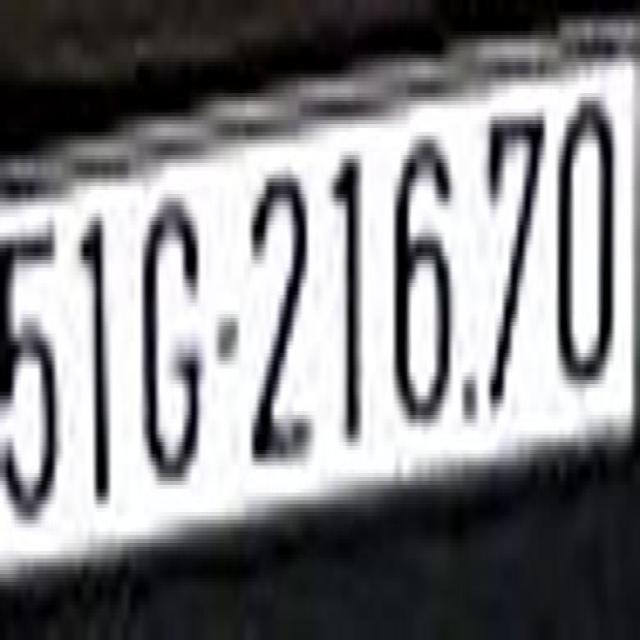0: (554, 89, 614, 392)
1: (330, 152, 368, 434), (78, 198, 110, 500)
2: (251, 163, 314, 458)
5: (0, 229, 57, 512)
6: (396, 128, 450, 408)
7: (486, 105, 545, 419)
G: (140, 190, 201, 473)
